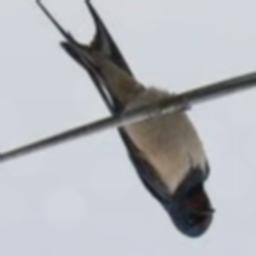Swallow: (14, 0, 216, 238)
